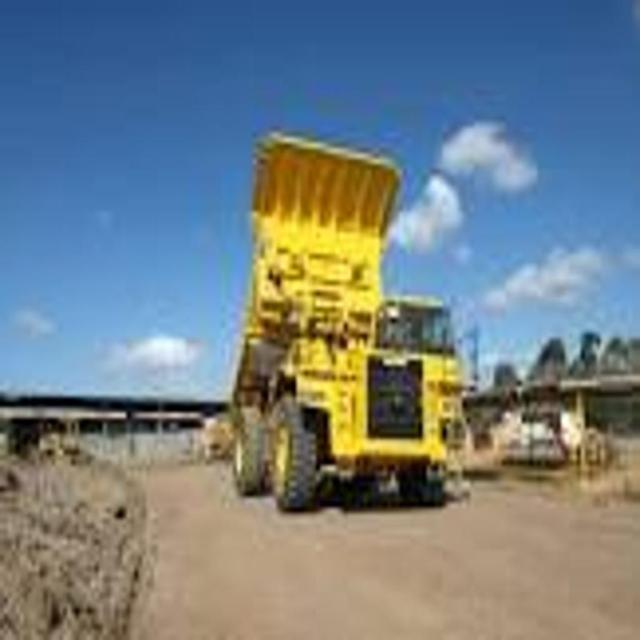dump_truck: (224, 112, 476, 521)
